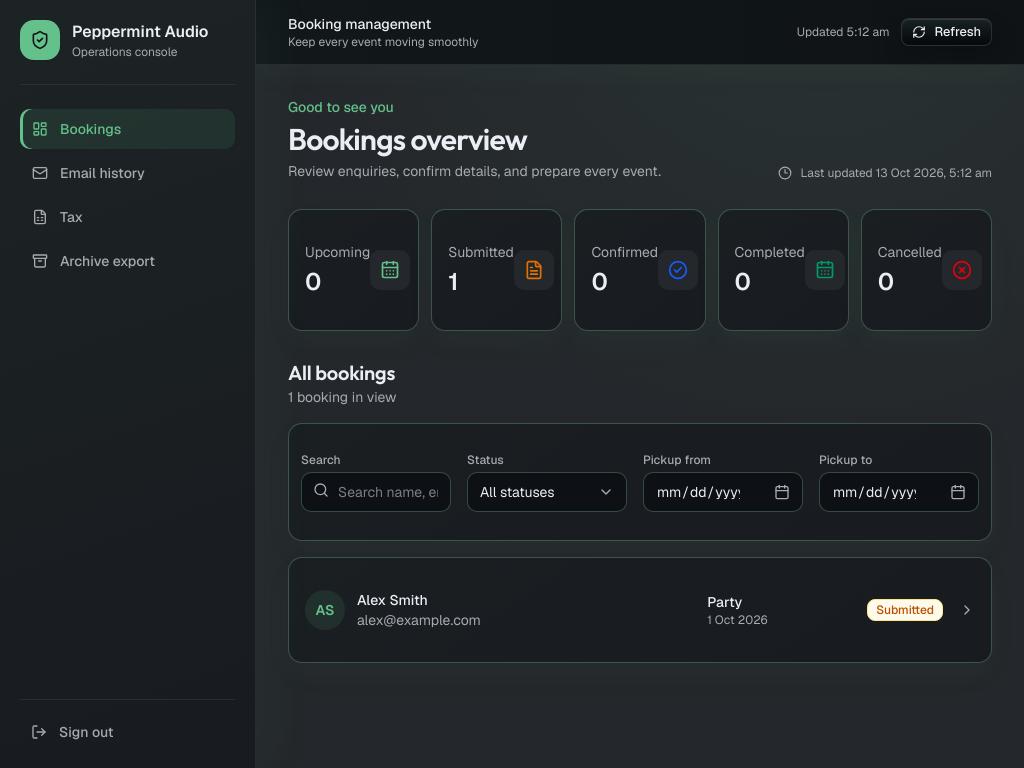
Test: AdminConsole › sends search and status filters and updates the visible list
Expected: the text "Alex Smith" is shown, [357,591,428,609]
Type "Alex" into the field named "Search bookings". click: x=376, y=492
box: [301,472,451,512]
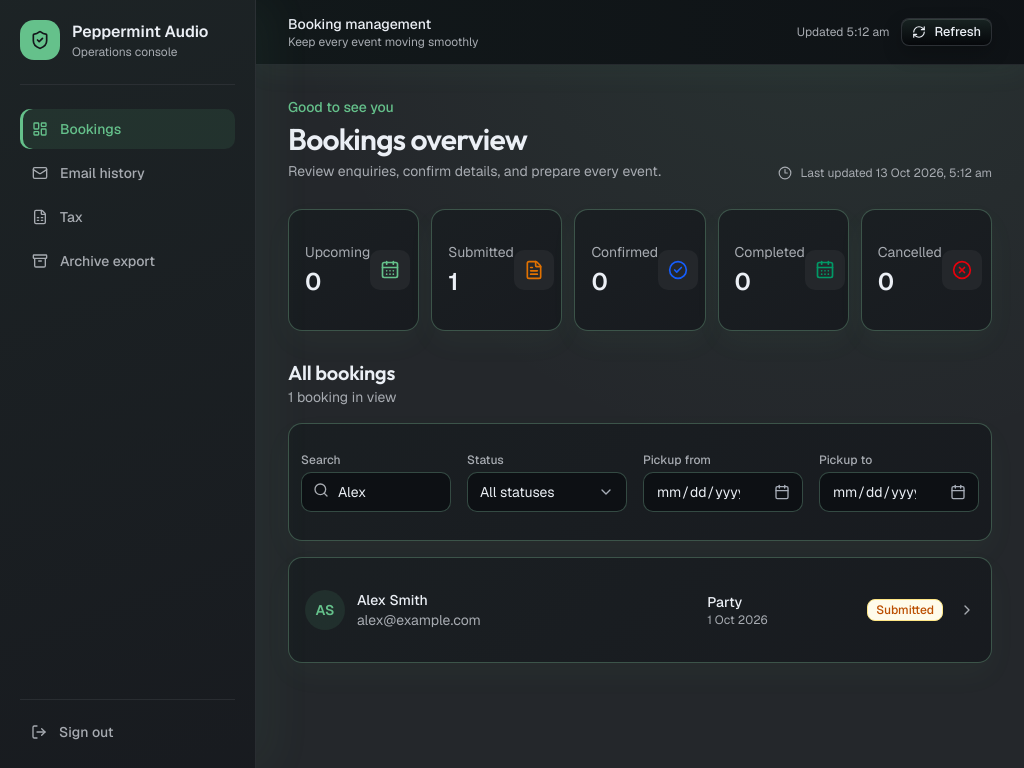
Select "Confirmed" in the dropdown named "Filter by status". click: x=547, y=492
box: [467,472,627,512]
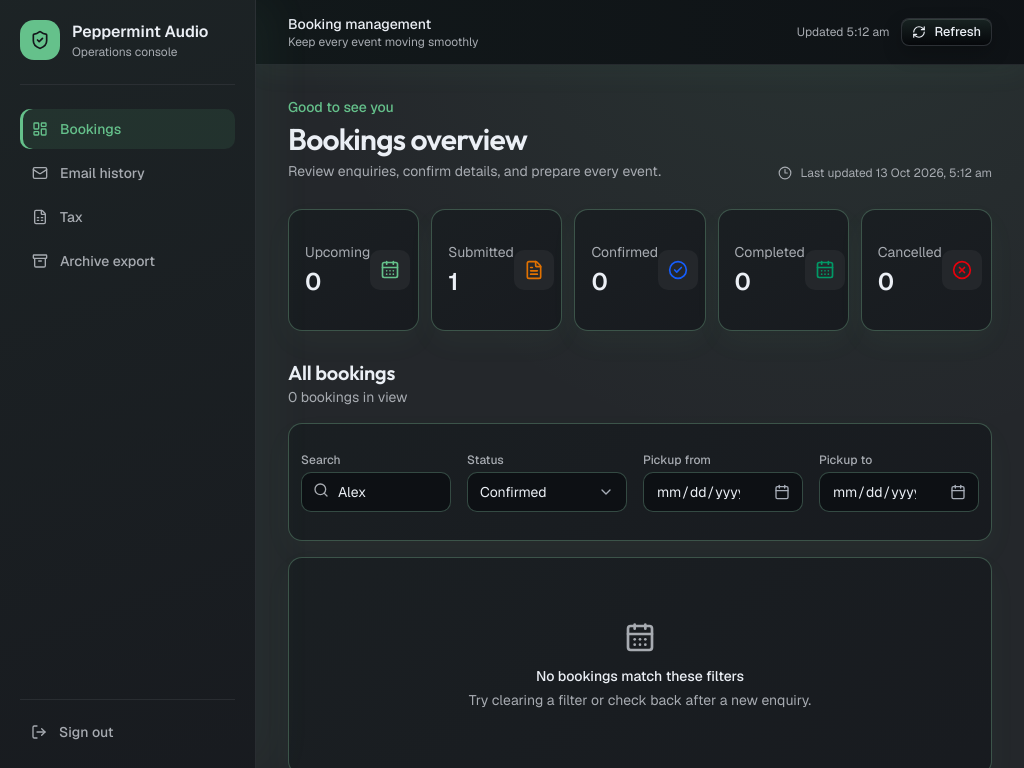
Result: the text "No bookings match these filters" is shown at [536,667,744,685]
